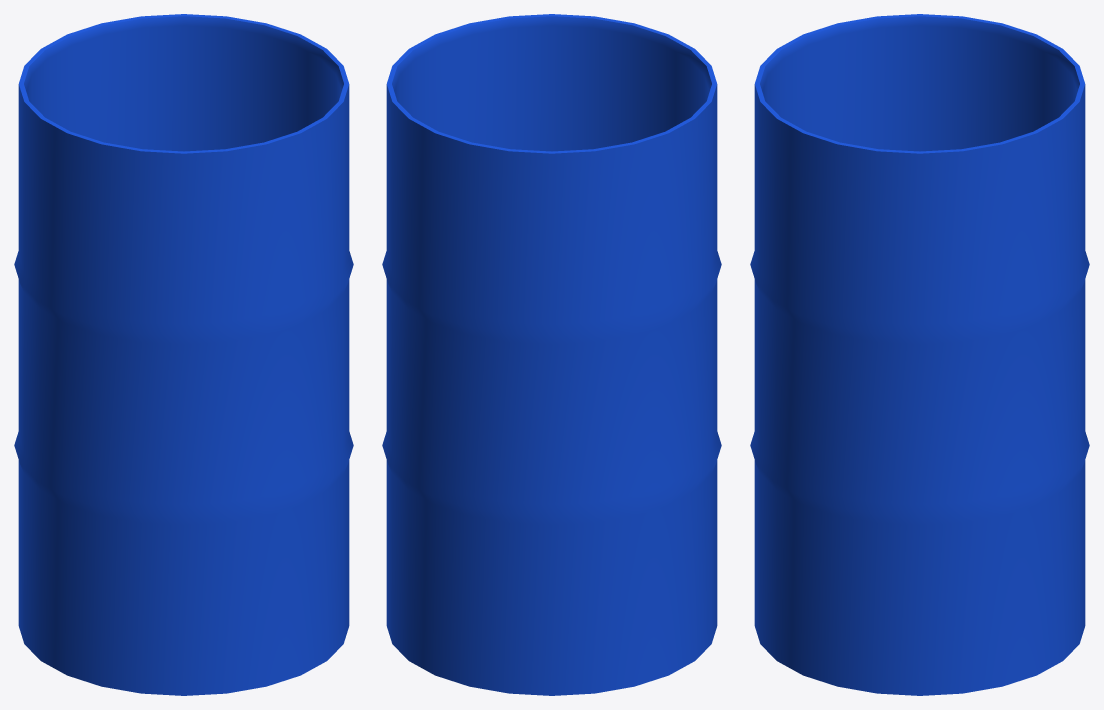
Rendered from barrel_open_damage1.fbx.
3 views of the same model, side by side, from view 1: azimuth 30°, elevation 25°; view 2: azimuth 150°, elevation 25°; view 3: azimuth 270°, elevation 25° (orthographic).
Visible parts, largest first — view 1: barrel_open_damage1; view 2: barrel_open_damage1; view 3: barrel_open_damage1.
Boxes of the visible parts, x1,y1,x2,y2 form: barrel_open_damage1: [14, 14, 353, 695]; barrel_open_damage1: [382, 14, 721, 695]; barrel_open_damage1: [750, 14, 1089, 695].
Size of the model in its own units: 51 by 89.88 by 51.
